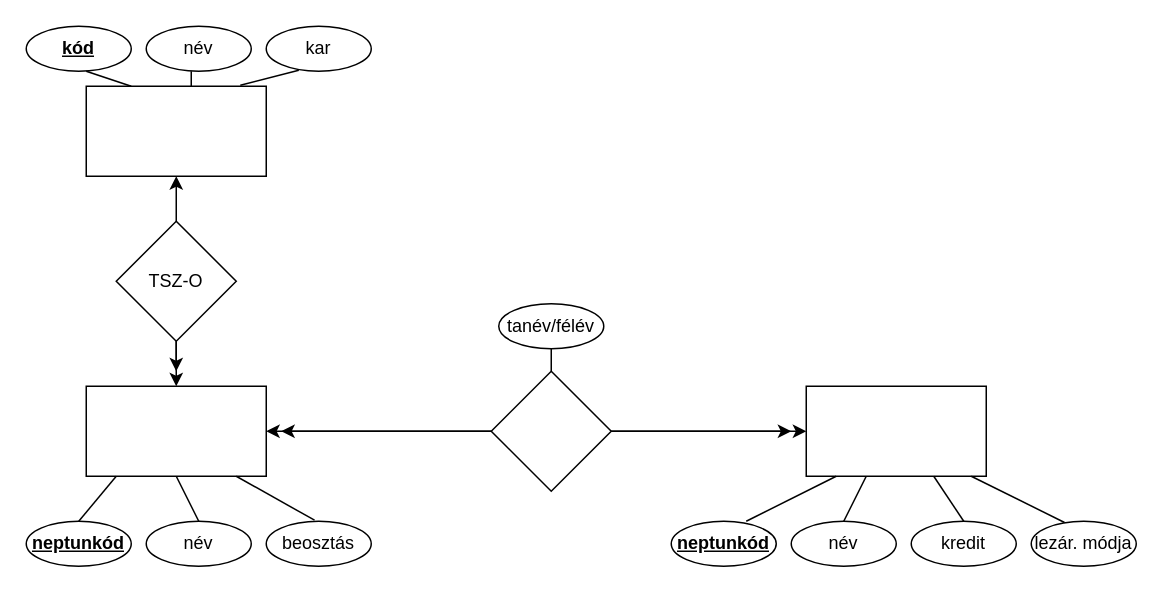
Some shapes in this 1163 by 593 pixel diagram are drawn without their labels. The box of each missing label's shape, as (x1, y1, x2, y2) in pixels:
O-TT: (490, 370, 611, 491)
Oktató: (85, 385, 266, 476)
Tanszék: (85, 85, 266, 176)
Tantárgy: (805, 385, 986, 476)
